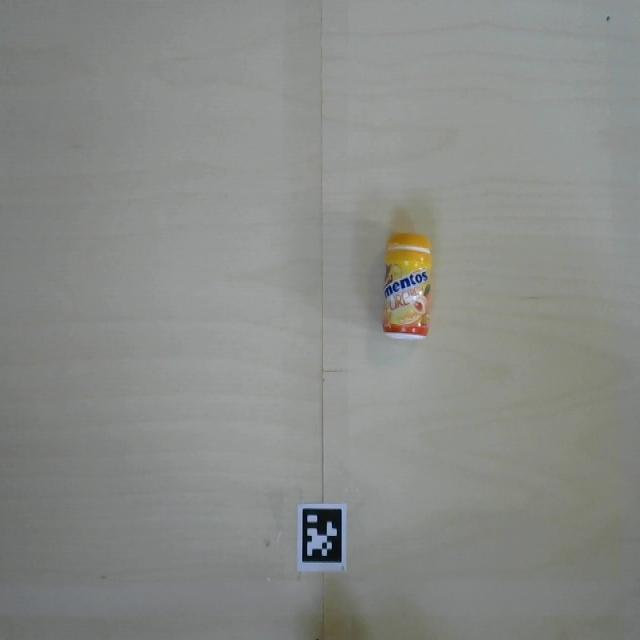mentos: (377, 233, 436, 345)
